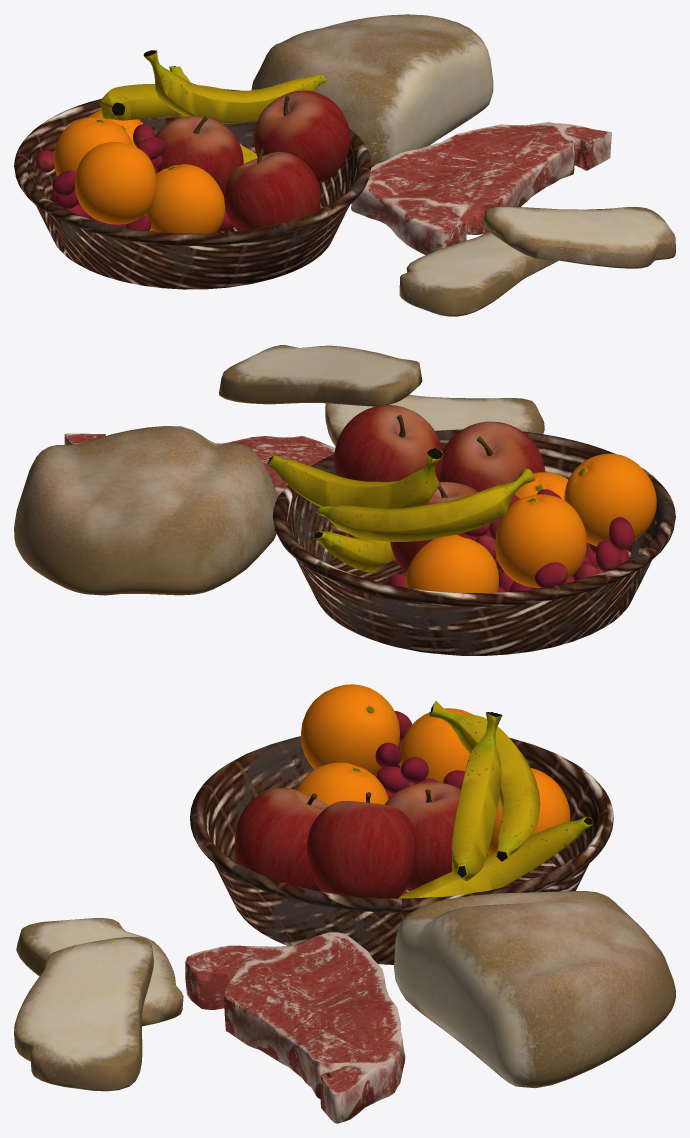
The model's file is tabua-frutas-carnes-paes.glb.
3 views of the same model, one above another, from view 1: azimuth 30°, elevation 25°; view 2: azimuth 150°, elevation 25°; view 3: azimuth 270°, elevation 25° (orthographic). The views are drawn at different scales.
Visible parts, largest first — view 1: canastas_canasta_0, frutas_frutas_0, carne_carne_0; view 2: canastas_canasta_0, frutas_frutas_0, carne_carne_0; view 3: canastas_canasta_0, frutas_frutas_0, carne_carne_0.
Part boxes in pixels (x1,y1,x2,y2): canastas_canasta_0: [14, 14, 675, 316]; frutas_frutas_0: [35, 50, 350, 233]; carne_carne_0: [351, 122, 611, 255]; canastas_canasta_0: [14, 345, 675, 655]; frutas_frutas_0: [267, 405, 656, 592]; carne_carne_0: [64, 433, 335, 497]; canastas_canasta_0: [14, 736, 675, 1091]; frutas_frutas_0: [235, 684, 593, 898]; carne_carne_0: [185, 932, 405, 1123].
Size of the model in its own units: 0.3781 by 0.1041 by 0.3334.
3 materials, 3 textured.
